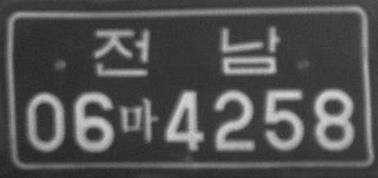0: (24, 90, 66, 154)
2: (214, 89, 256, 153)
4: (164, 89, 205, 152)
5: (263, 88, 305, 152)
6: (71, 90, 116, 153)
8: (312, 88, 357, 152)
마: (118, 95, 160, 144)
전남_D: (93, 25, 281, 80)
